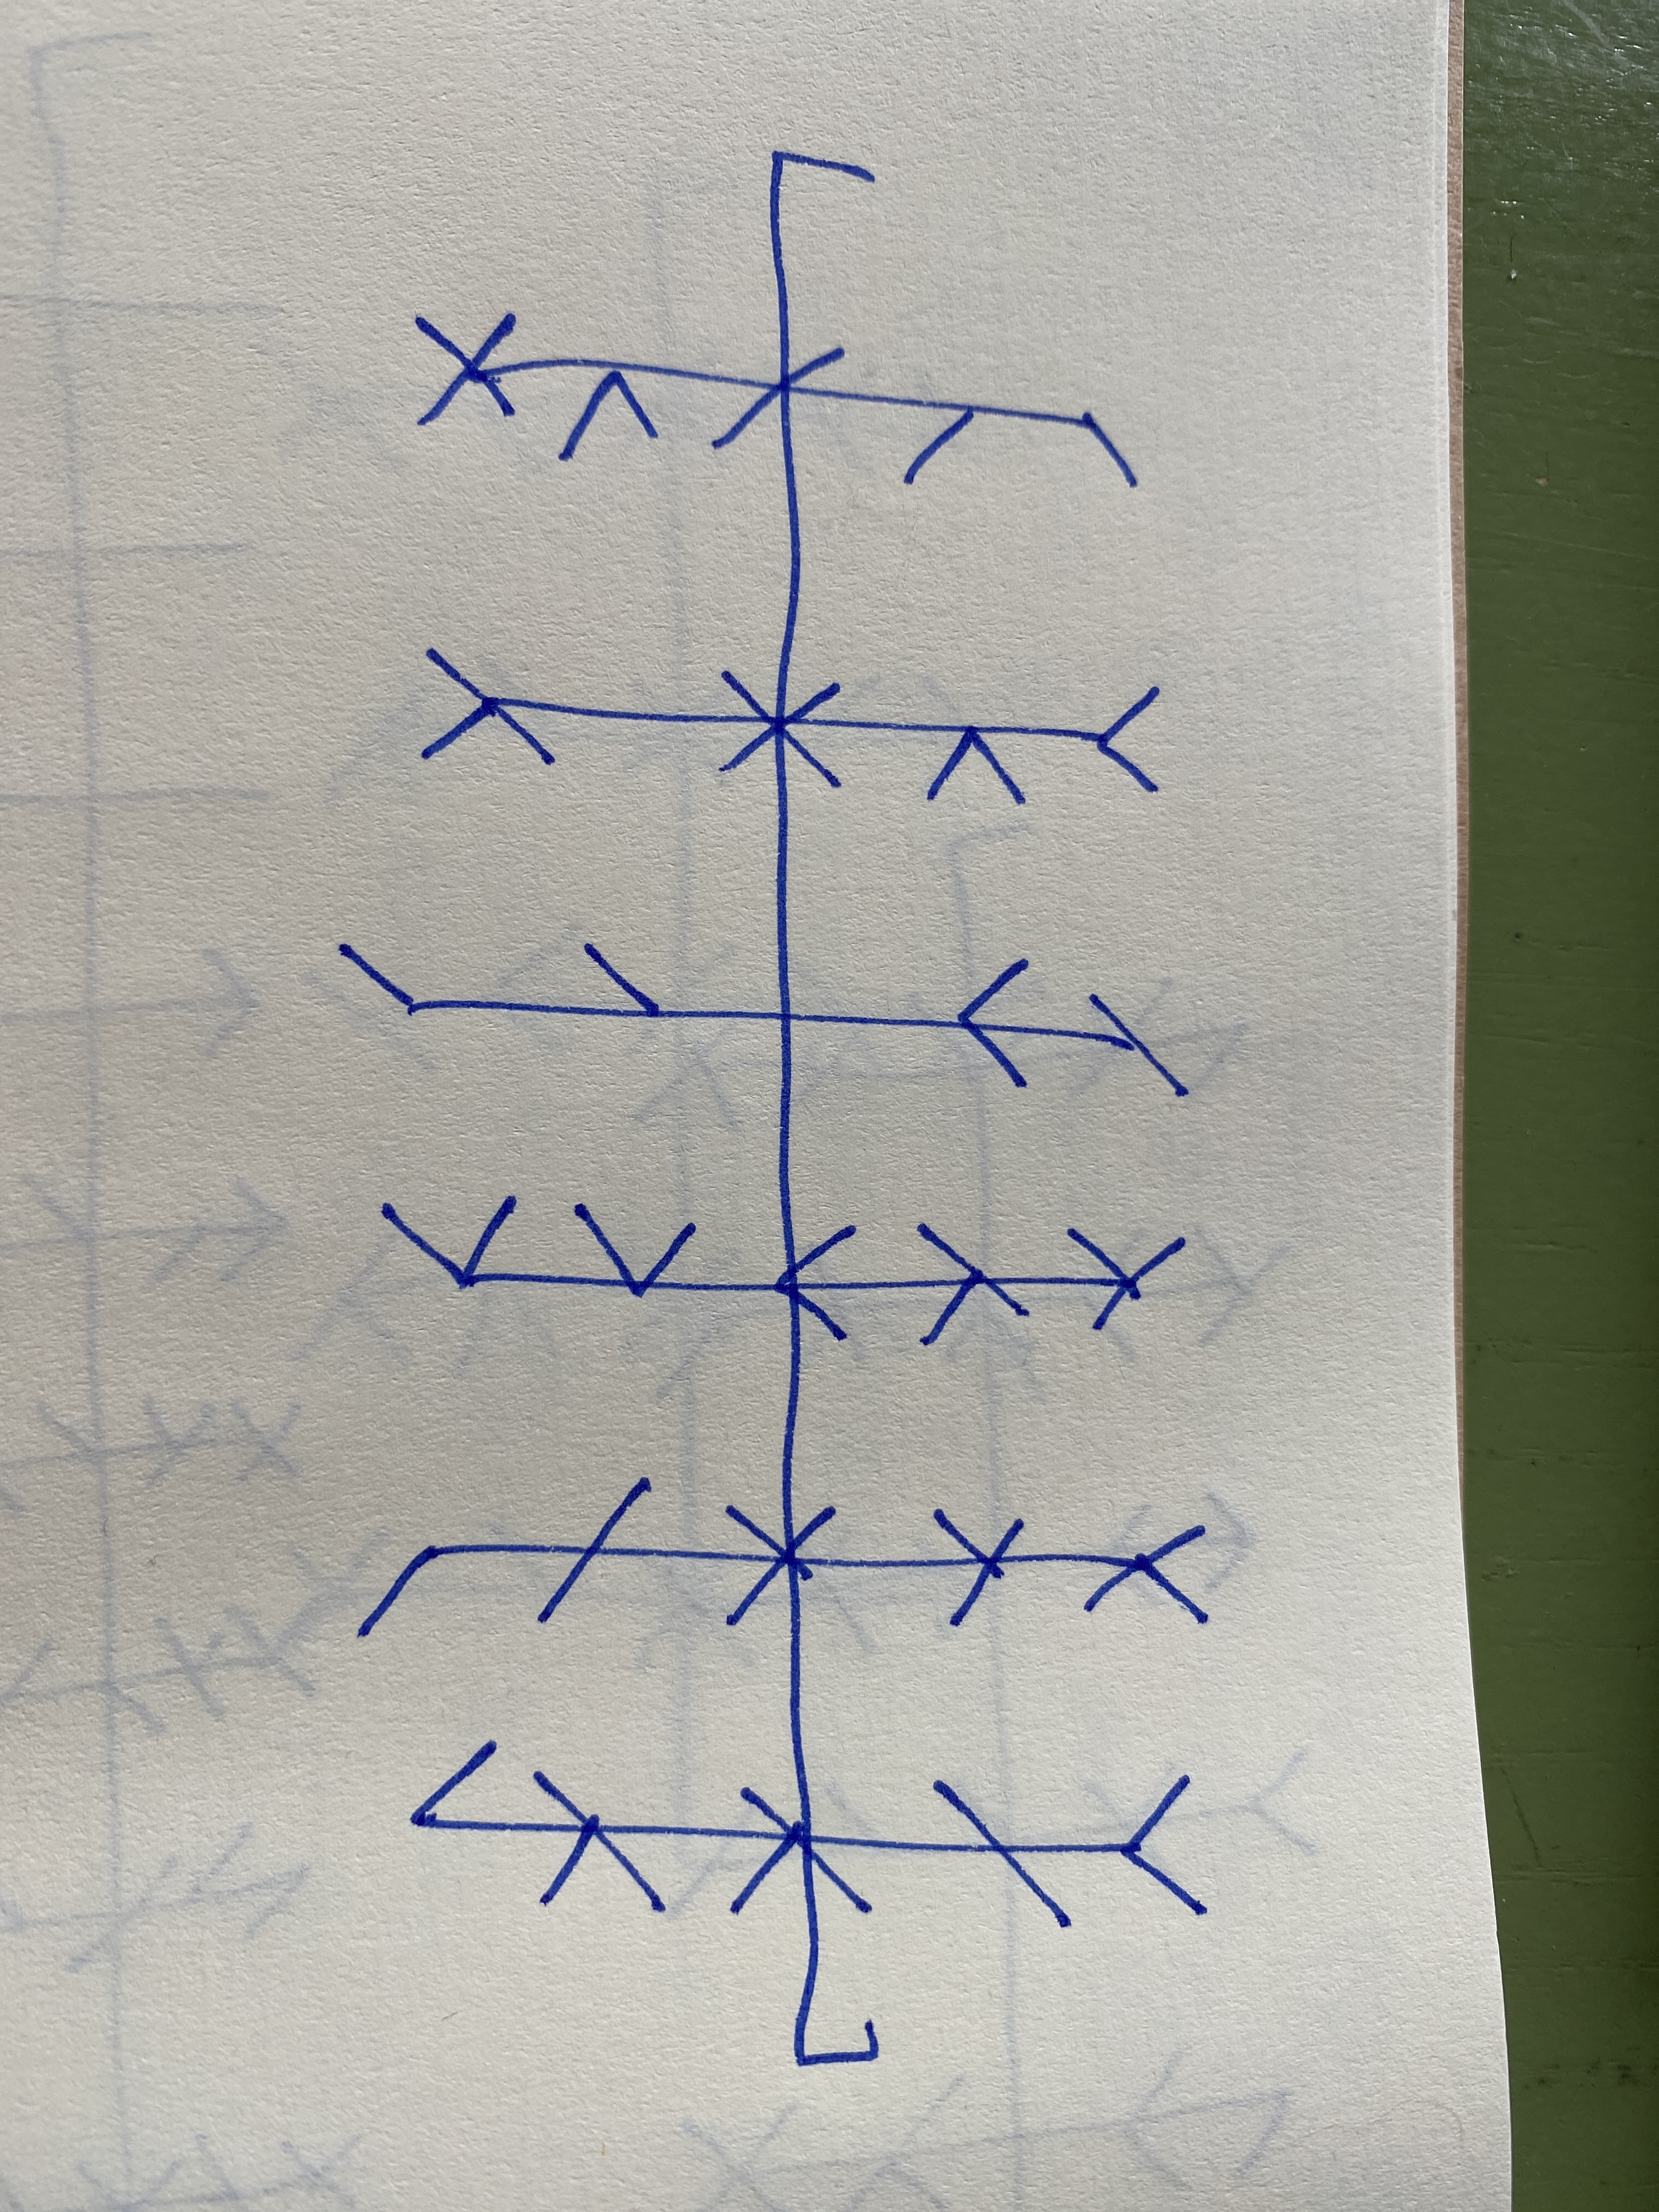Bar: (410, 1738, 1209, 1930), (357, 1474, 1209, 1639), (338, 942, 1190, 1099), (406, 314, 1140, 491), (378, 1193, 1185, 1348), (422, 644, 1161, 805)
Barcode: (338, 150, 1213, 2067)
End: (791, 1914, 880, 2066)
Start: (767, 153, 884, 343)
